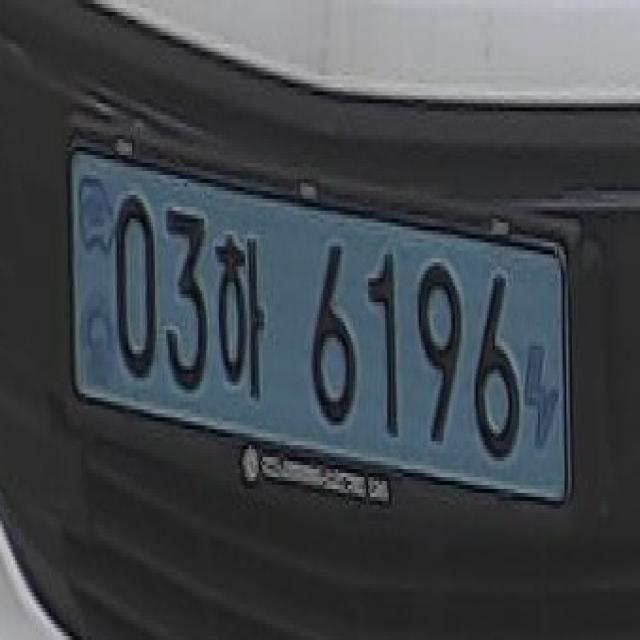plat: (66, 139, 574, 506)
